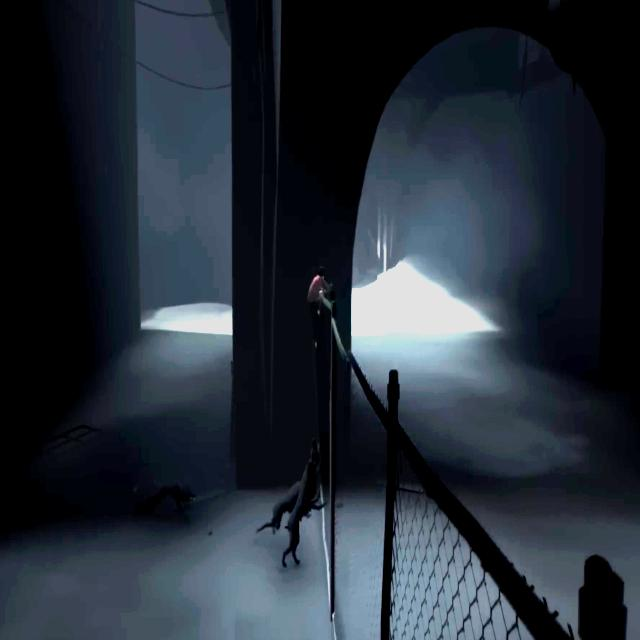boy: (308, 267, 330, 351)
dog: (282, 452, 324, 568), (256, 478, 301, 535), (137, 481, 196, 522)
